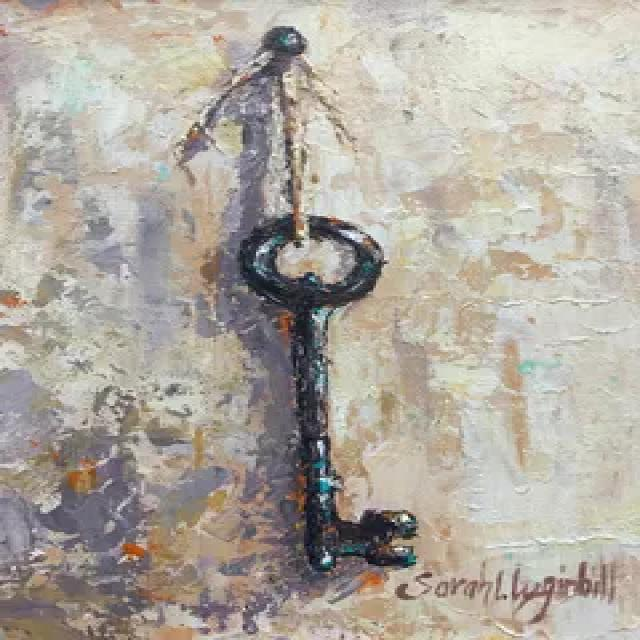key: (225, 196, 456, 582)
